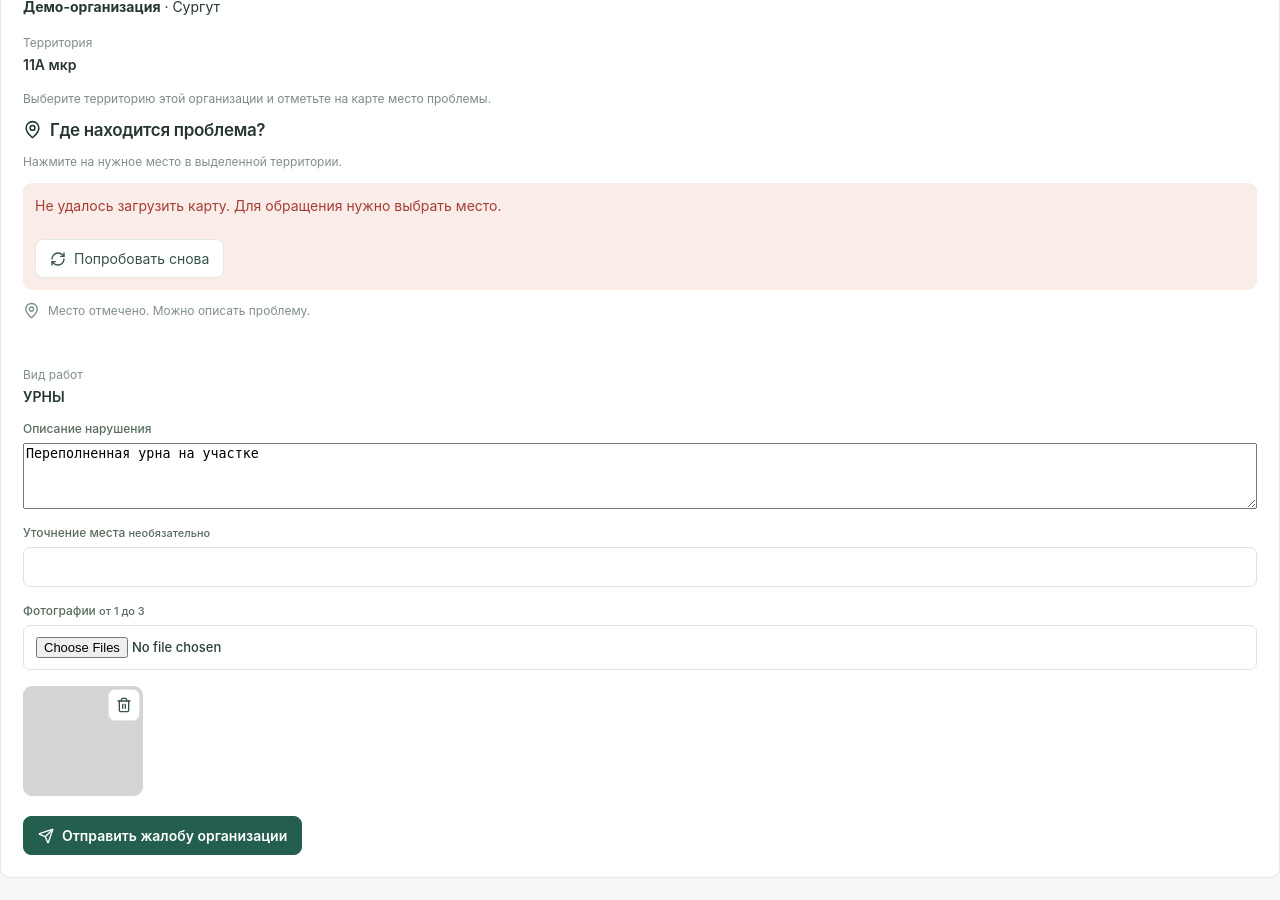
submits the same workflow fields through the authenticated private endpoint and leaves the receipt open
(page scrolled)
Click the button "Отправить жалобу организации" at coordinates (163, 836), box [23,816,302,855]
(page scrolled)
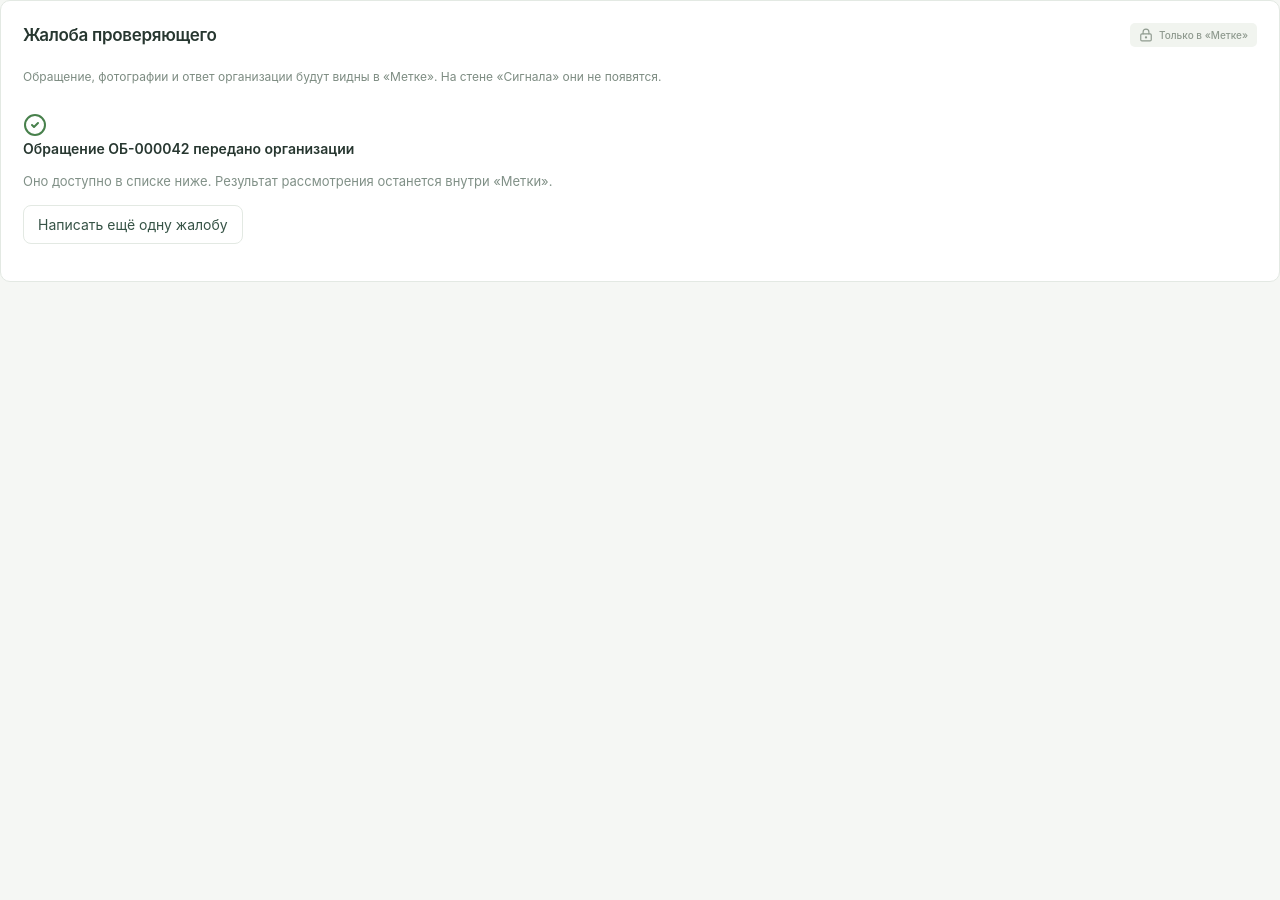
Expected: the element with class "inspector-appeal-form" is shown, [0,0,1279,282]
Result: the message shows "ОБ-000042" at [108,140,190,157]
